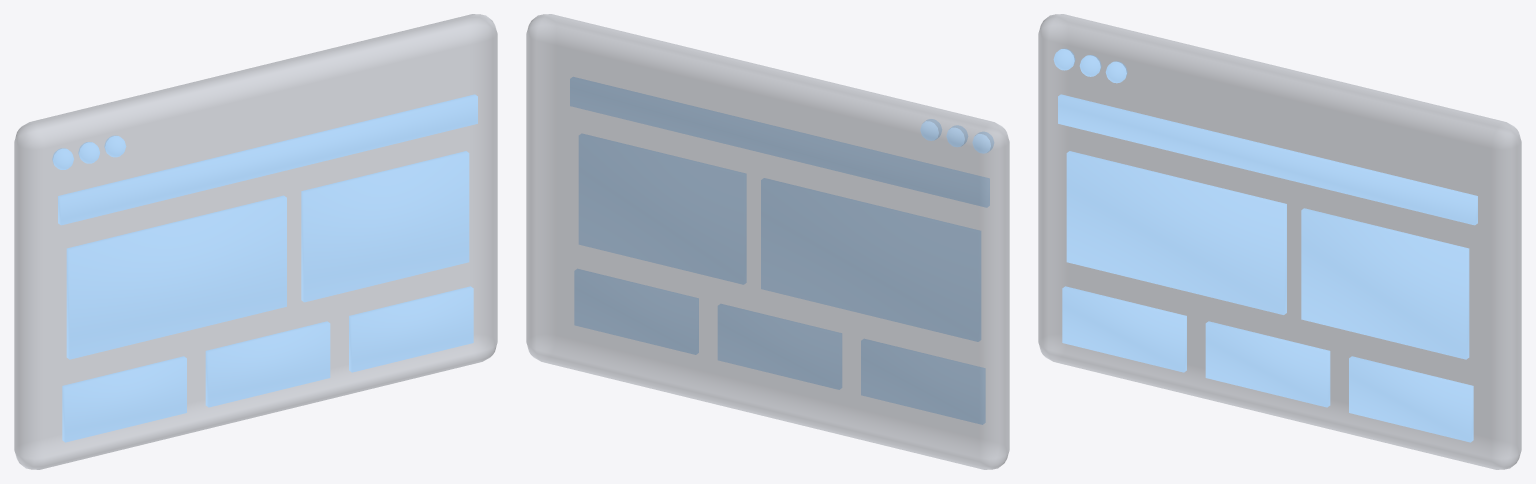
The model's file is sites.glb.
The picture shows the model from 3 angles, left to right: view 1: azimuth 30°, elevation 25°; view 2: azimuth 150°, elevation 25°; view 3: azimuth 330°, elevation 25°; orthographic projection.
Visible parts, largest first — view 1: fenetre, bloc1, bloc2, bloc0, bloc4, bloc3, bloc5; view 2: fenetre, bloc1, bloc2, bloc0, bloc4, bloc3, bloc5; view 3: fenetre, bloc1, bloc2, bloc0, bloc4, bloc3, bloc5.
Part boxes in pixels (box(x1,y1,x2,y2)): fenetre: box(14, 14, 497, 469); bloc1: box(66, 195, 286, 359); bloc2: box(301, 151, 469, 302); bloc0: box(58, 94, 477, 225); bloc4: box(205, 321, 330, 407); bloc3: box(62, 356, 186, 442); bloc5: box(349, 286, 473, 372); fenetre: box(526, 14, 1009, 469); bloc1: box(761, 178, 981, 341); bloc2: box(578, 133, 746, 284); bloc0: box(570, 77, 989, 207); bloc4: box(717, 304, 842, 389); bloc3: box(861, 338, 985, 424); bloc5: box(574, 268, 698, 354); fenetre: box(1038, 14, 1521, 469); bloc1: box(1066, 151, 1286, 314); bloc2: box(1301, 208, 1469, 359); bloc0: box(1058, 94, 1477, 225); bloc4: box(1205, 321, 1330, 407); bloc3: box(1062, 286, 1186, 372); bloc5: box(1349, 356, 1473, 442).
Bounding box in the file's own units: 1.1 × 0.76 × 0.107.
